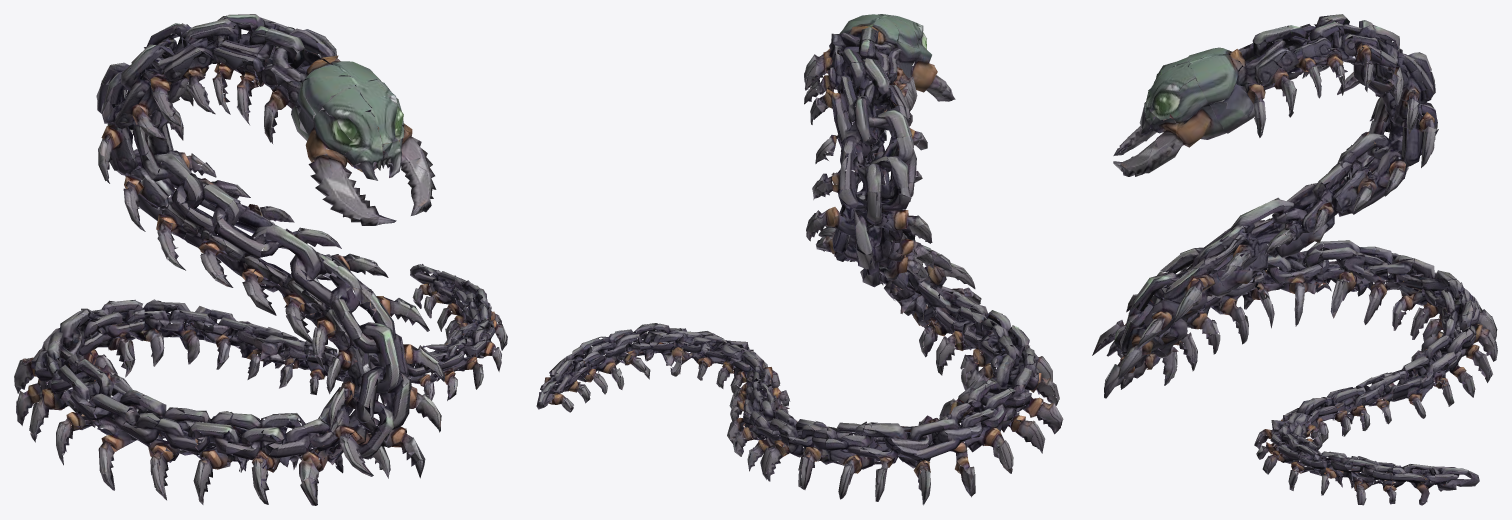
3 views of the same model, side by side, from view 1: azimuth 30°, elevation 25°; view 2: azimuth 150°, elevation 25°; view 3: azimuth 270°, elevation 25° (orthographic). The views are drawn at different scales.
Parts seen in each view (by area): view 1: Mesh_0; view 2: Mesh_0; view 3: Mesh_0.
Boxes of the visible parts, x1,y1,x2,y2 form: Mesh_0: (14, 14, 507, 505); Mesh_0: (536, 14, 1063, 505); Mesh_0: (1092, 14, 1497, 505).
Bounding box in the file's own units: 1.91 × 1.54 × 1.56.
Materials: 1 (1 with a texture image).
